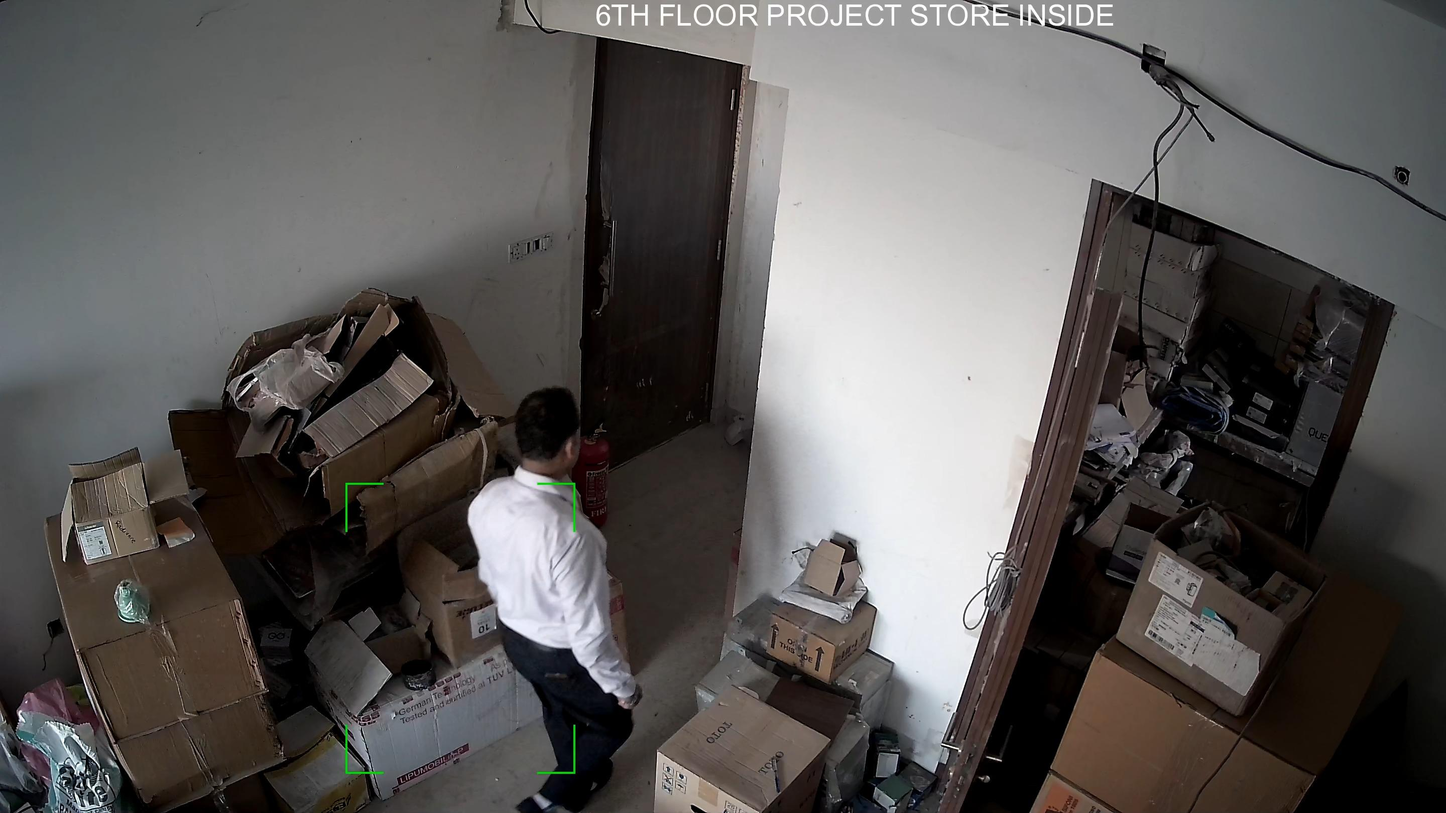Door-Close: (569, 30, 740, 474)
